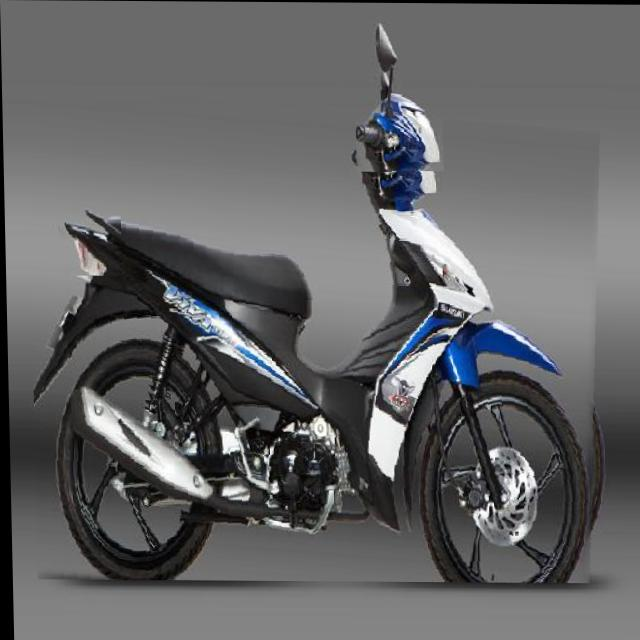All: (27, 85, 607, 583)
Head: (354, 93, 443, 172)
Tail: (54, 199, 121, 276)
